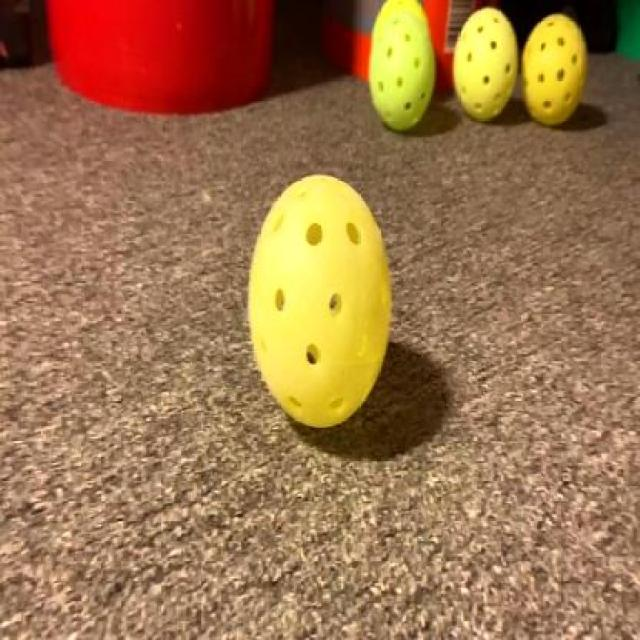ball: (250, 171, 400, 426), (370, 0, 440, 126), (454, 2, 514, 120), (525, 7, 587, 119)
